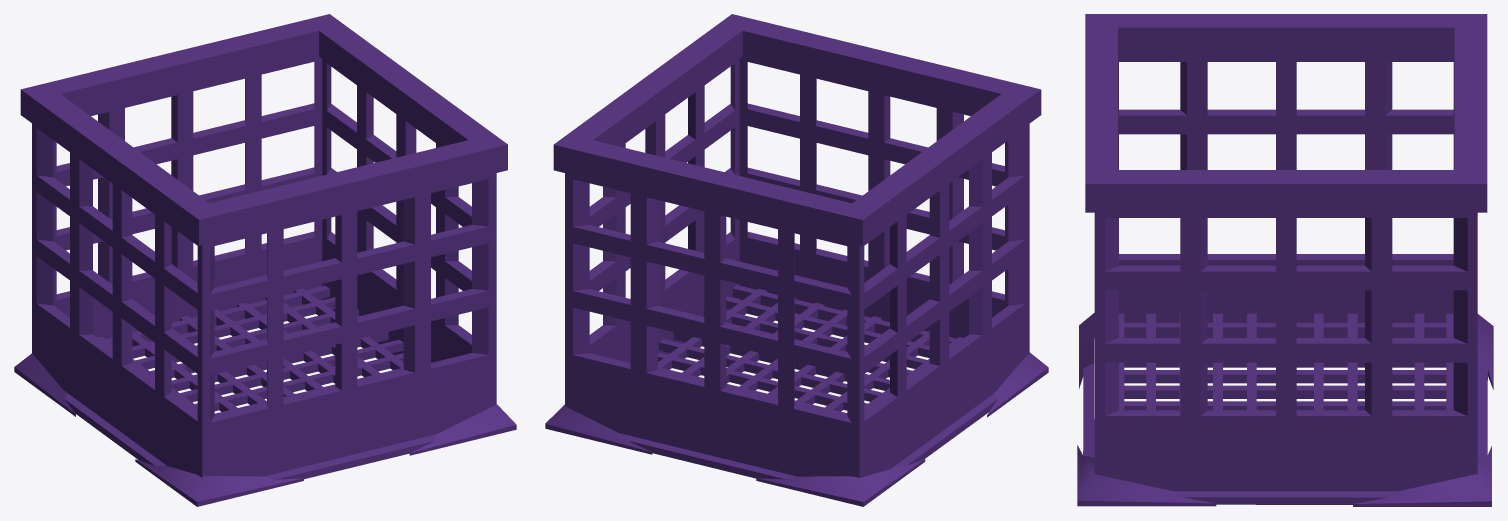
File: Crate_02 1.fbx
3 views of the same model, side by side, from view 1: azimuth 30°, elevation 25°; view 2: azimuth 150°, elevation 25°; view 3: azimuth 270°, elevation 25° (orthographic). The views are drawn at different scales.
Parts seen in each view (by area): view 1: polySurface6; view 2: polySurface6; view 3: polySurface6.
Part boxes in pixels (bbox=[...]): polySurface6: bbox=[14, 14, 516, 506]; polySurface6: bbox=[545, 14, 1048, 506]; polySurface6: bbox=[1077, 14, 1493, 506].
Bounding box in the file's own units: 48.46 × 41.12 × 48.46.
1 material, 1 textured.
